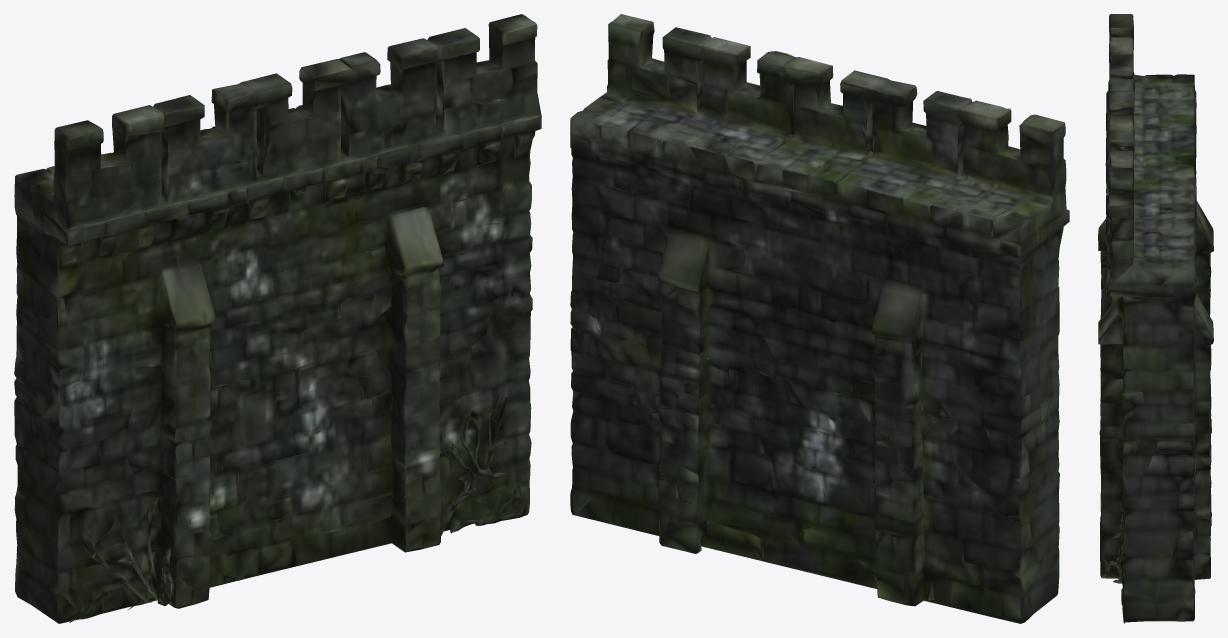
The model's file is briarhold-wall-bay-256.glb.
3 views of the same model, side by side, from view 1: azimuth 30°, elevation 25°; view 2: azimuth 150°, elevation 25°; view 3: azimuth 270°, elevation 25° (orthographic). The views are drawn at different scales.
Visible parts, largest first — view 1: briarhold-wall-bay; view 2: briarhold-wall-bay; view 3: briarhold-wall-bay.
Boxes of the visible parts, x1=… form: briarhold-wall-bay: x1=14, y1=14, x2=541, y2=623; briarhold-wall-bay: x1=570, y1=14, x2=1069, y2=623; briarhold-wall-bay: x1=1098, y1=14, x2=1213, y2=623.
Bounding box in the file's own units: 8 × 8 × 2.
1 material, 1 textured.
